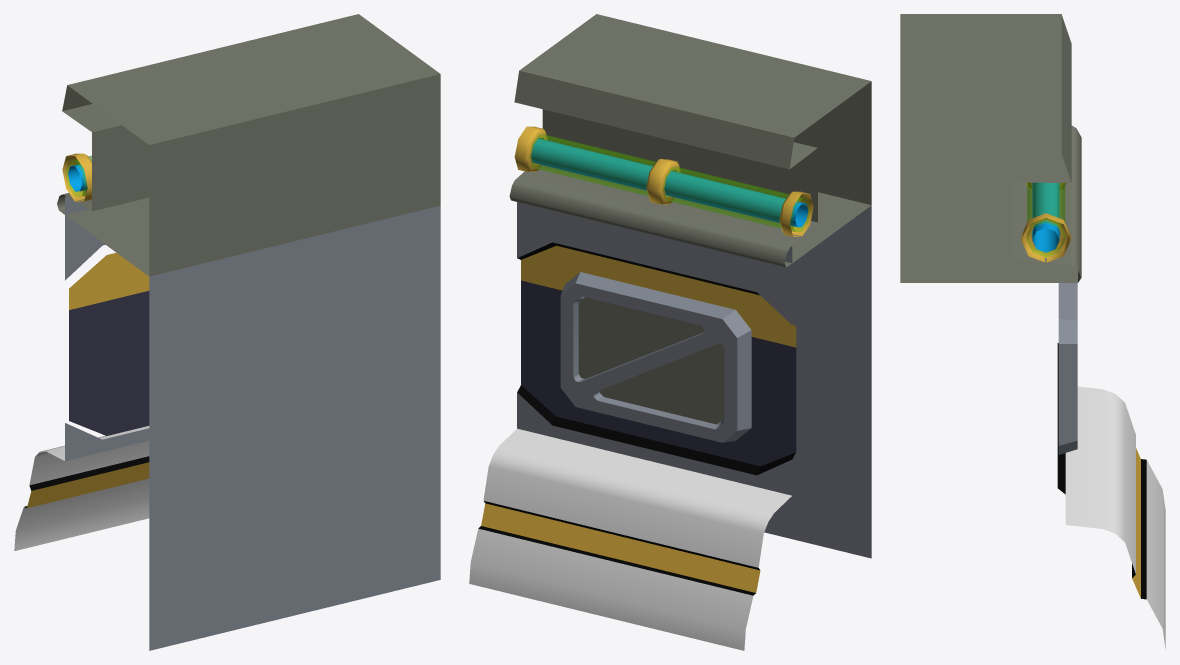
Rendered from Half_Wall_withdetails.fbx.
The picture shows the model from 3 angles, left to right: view 1: azimuth 30°, elevation 25°; view 2: azimuth 150°, elevation 25°; view 3: azimuth 270°, elevation 25°; orthographic projection. The views are drawn at different scales.
Parts seen in each view (by area): view 1: Half_Wall_withdetails_; view 2: Half_Wall_withdetails_; view 3: Half_Wall_withdetails_.
Part boxes in pixels (left/top/right/bottom): Half_Wall_withdetails_: left=14, top=14, right=440, bottom=650; Half_Wall_withdetails_: left=469, top=14, right=871, bottom=650; Half_Wall_withdetails_: left=900, top=14, right=1165, bottom=648.
Bounding box in the file's own units: 411 × 682 × 330.
